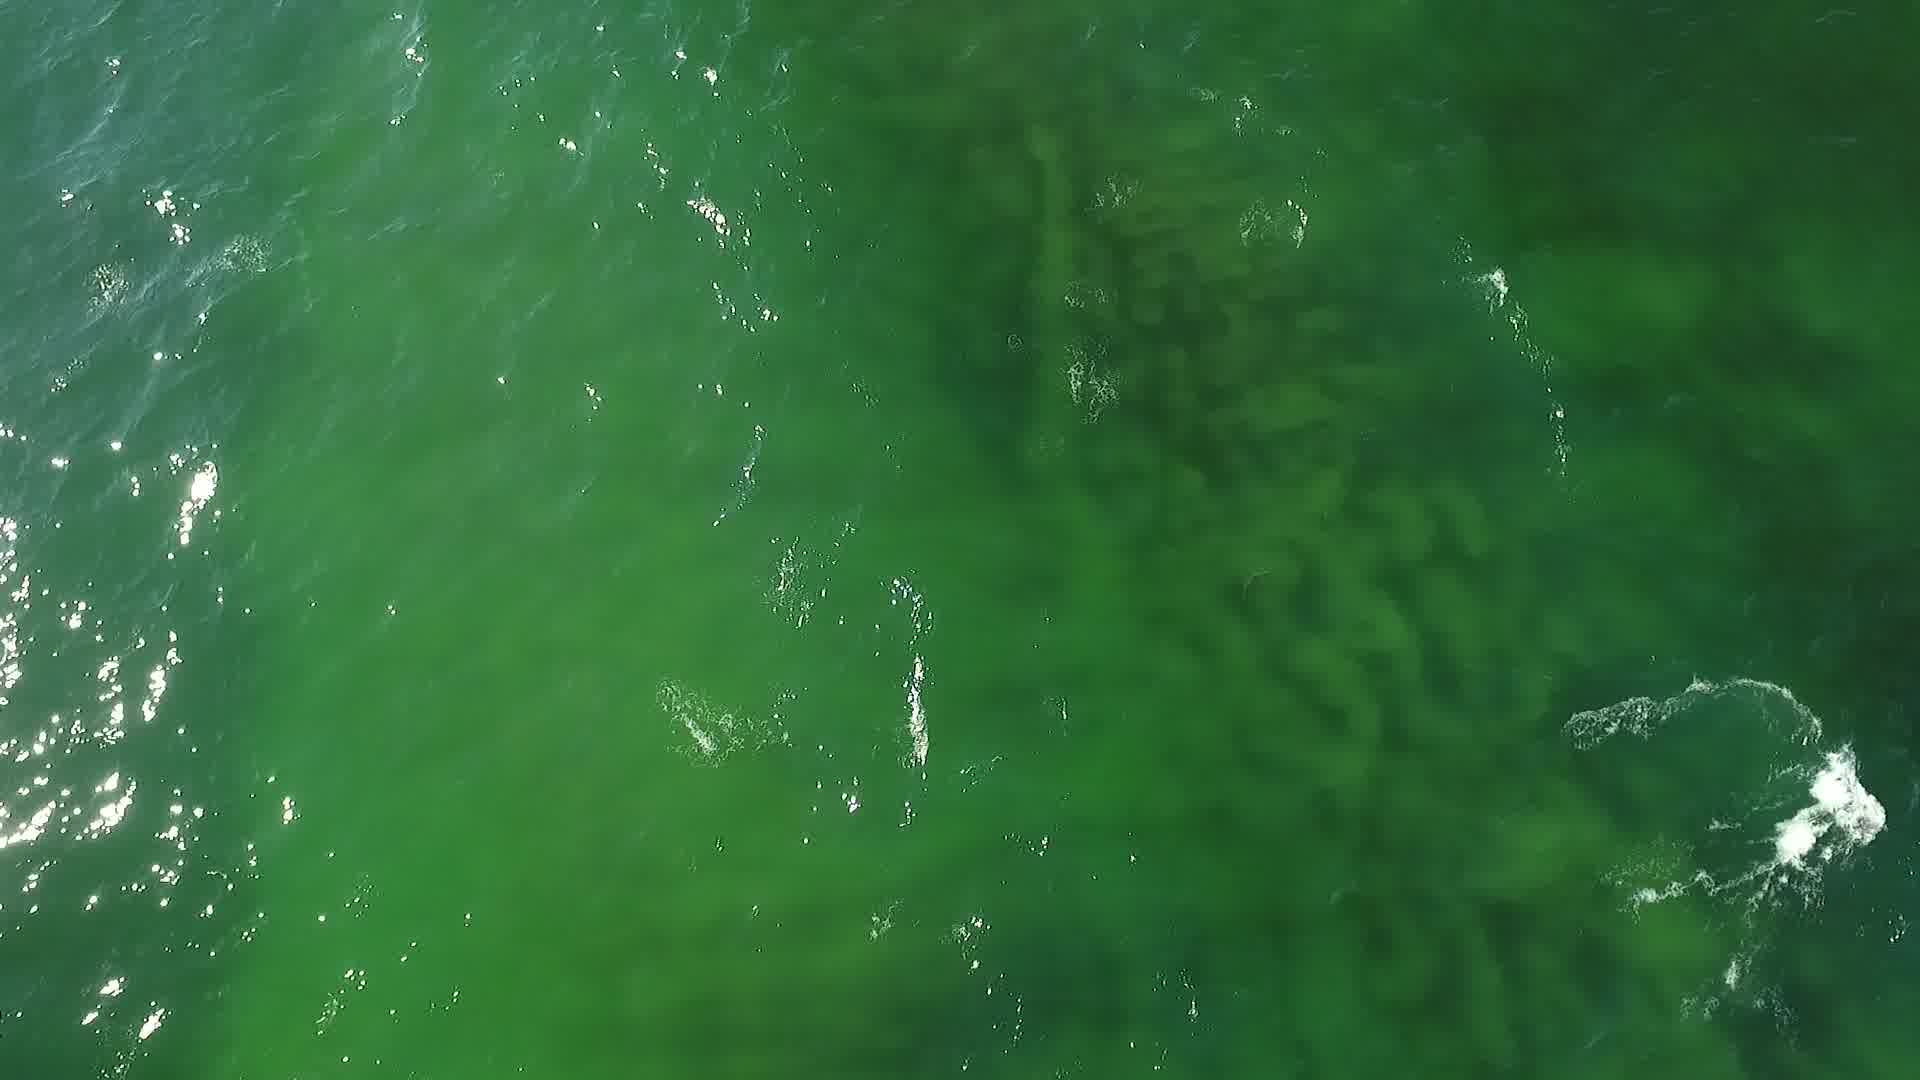shark: (1234, 566, 1275, 604)
